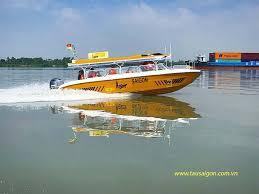Ship: (60, 53, 201, 95)
